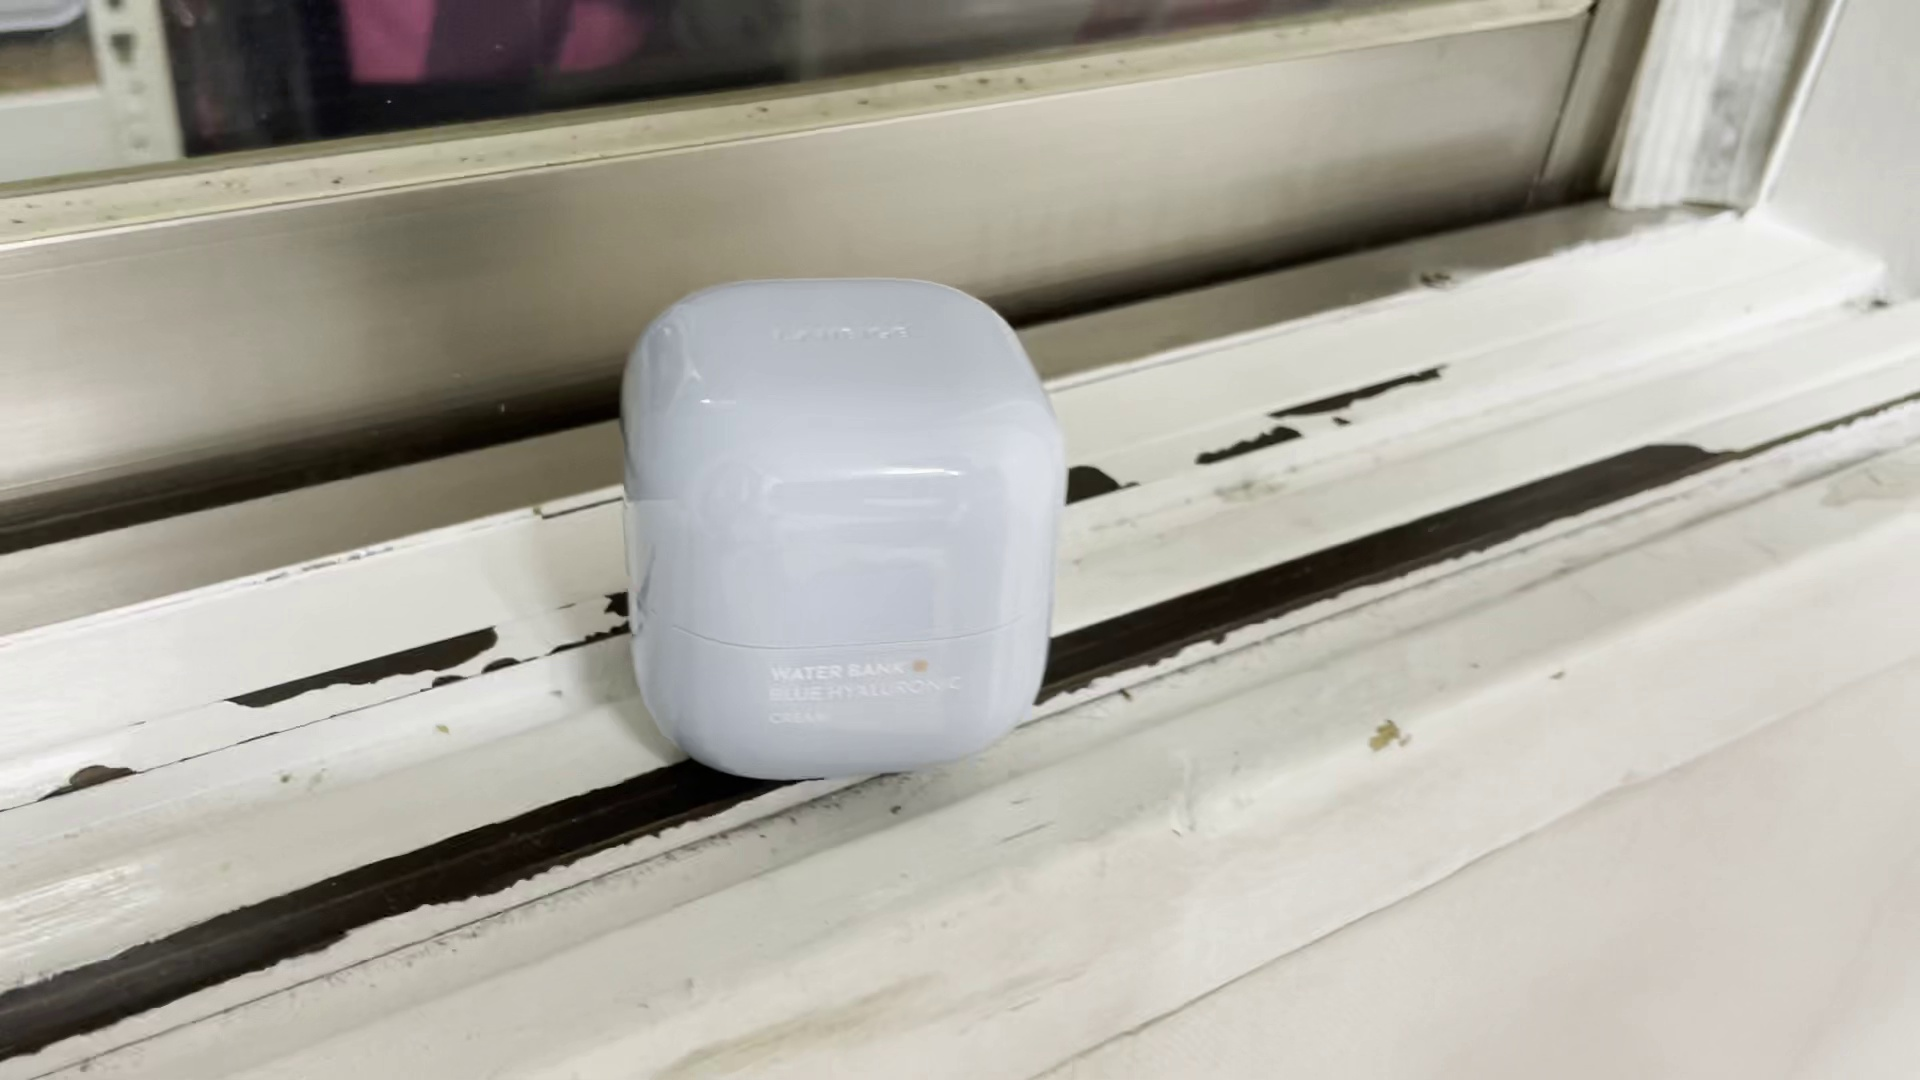cream: (622, 276, 1063, 778)
